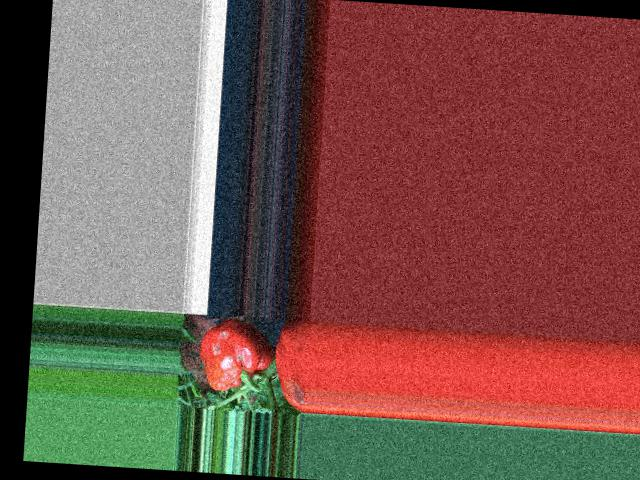bell_pepper: (200, 313, 274, 400)
